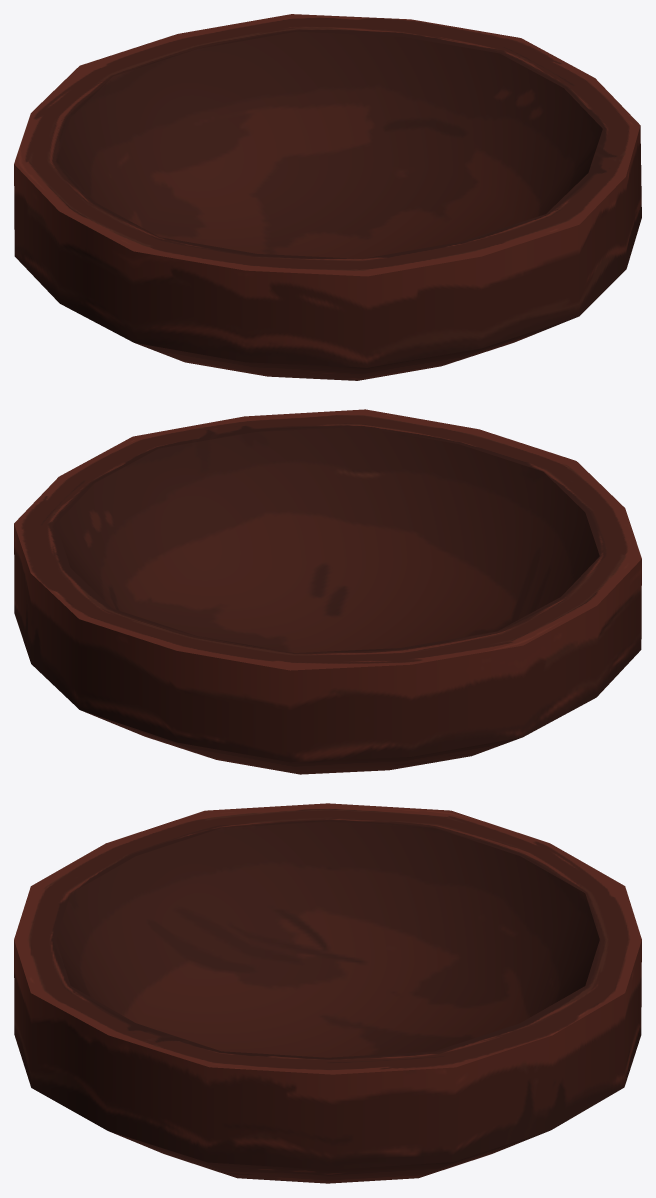
Rendered from SM_PROP_plate_dungeon_08.fbx.
The picture shows the model from 3 angles, top to bottom: view 1: azimuth 30°, elevation 25°; view 2: azimuth 150°, elevation 25°; view 3: azimuth 270°, elevation 25°; orthographic projection. The views are drawn at different scales.
Parts seen in each view (by area): view 1: SM_PROP_plate_dungeon_08; view 2: SM_PROP_plate_dungeon_08; view 3: SM_PROP_plate_dungeon_08.
Boxes of the visible parts, x1,y1,x2,y2 form: SM_PROP_plate_dungeon_08: (14, 14, 641, 380); SM_PROP_plate_dungeon_08: (14, 409, 641, 774); SM_PROP_plate_dungeon_08: (14, 803, 641, 1183).
Size of the model in its own units: 19.44 by 4.8 by 19.
